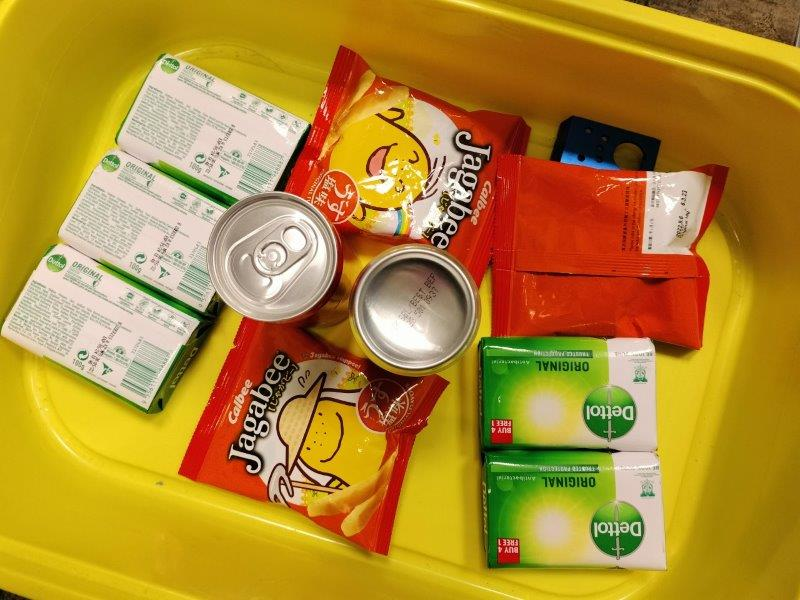Coke: (209, 190, 338, 326), (350, 245, 480, 376)
Dettol: (3, 243, 207, 412), (56, 151, 249, 321), (113, 54, 311, 205), (479, 336, 656, 451), (484, 455, 666, 566)
Jagabee: (179, 315, 449, 555), (288, 46, 530, 292), (495, 153, 724, 357)
